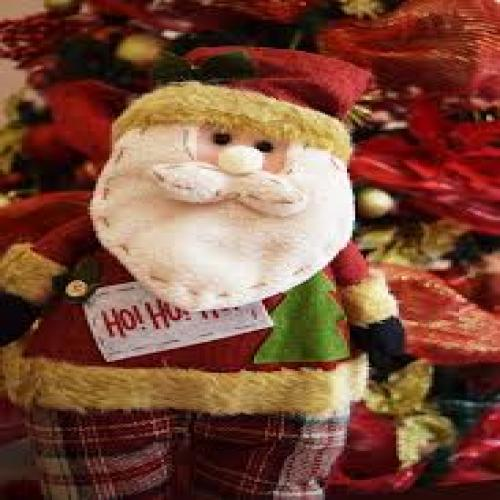Santa: (3, 46, 410, 498)
